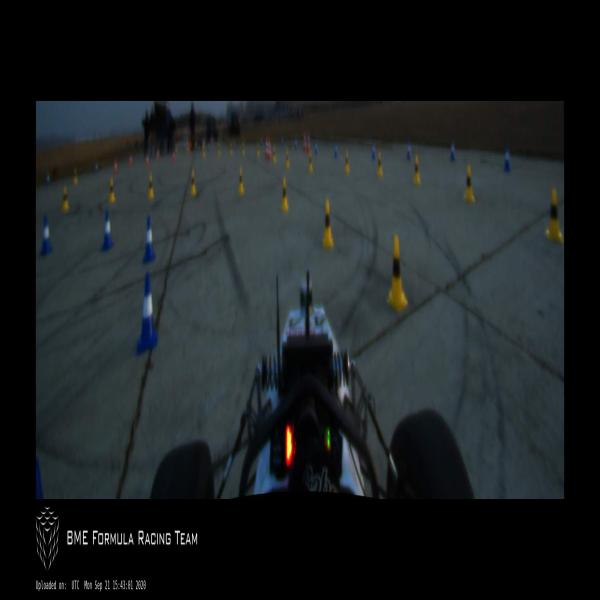blue_cone: (135, 271, 158, 355), (142, 215, 156, 263), (40, 213, 53, 257), (101, 210, 114, 251), (504, 146, 510, 172), (406, 138, 411, 162), (371, 140, 376, 160), (450, 140, 454, 163), (314, 140, 318, 154), (46, 172, 50, 186), (94, 161, 98, 174), (335, 141, 338, 158), (294, 139, 298, 150), (281, 138, 283, 145)
large_orange_cone: (268, 135, 272, 161), (264, 136, 268, 160), (306, 130, 310, 153), (303, 130, 306, 153)
orange_cone: (129, 153, 133, 166), (172, 149, 175, 163), (114, 163, 118, 173), (146, 155, 149, 167), (156, 149, 159, 160)
yellow_cone: (387, 234, 408, 310), (545, 190, 563, 242), (321, 200, 334, 247), (463, 164, 475, 202), (281, 177, 289, 212), (61, 186, 70, 212), (413, 154, 420, 185), (189, 170, 196, 198), (108, 179, 115, 205), (377, 152, 383, 178), (148, 173, 154, 199), (238, 169, 244, 194), (344, 150, 350, 175), (73, 167, 78, 183), (308, 152, 312, 171), (286, 151, 290, 169), (273, 146, 276, 164), (202, 146, 206, 158), (230, 144, 233, 154), (257, 143, 259, 156), (242, 142, 244, 154), (218, 144, 220, 156)
